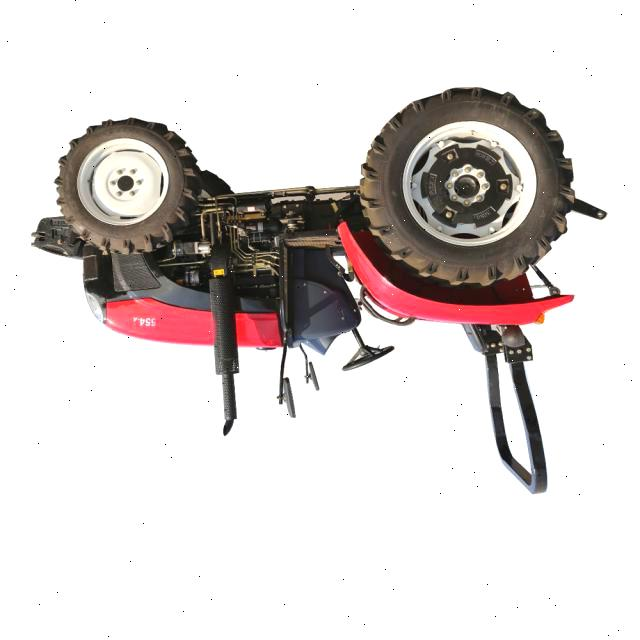Tratores - v5 YOLO V8L 2024-11-13: (22, 79, 600, 495)
